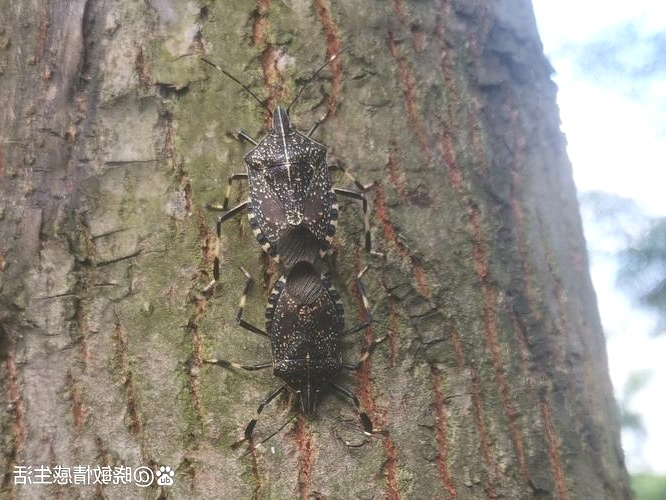Stink_Bug: (254, 94, 354, 417)
